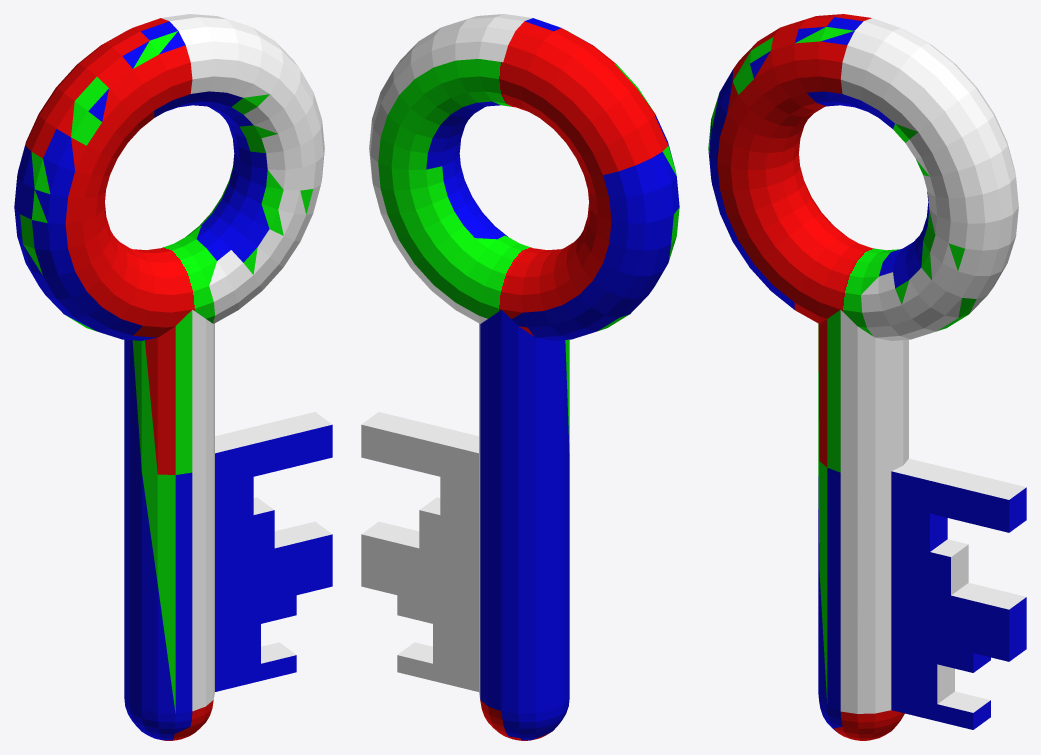
File: key.glb
The picture shows the model from 3 angles, left to right: view 1: azimuth 30°, elevation 25°; view 2: azimuth 150°, elevation 25°; view 3: azimuth 330°, elevation 25°; orthographic projection.
Parts seen in each view (by area): view 1: Key; view 2: Key; view 3: Key.
Boxes of the visible parts, bbox=[...] form: Key: bbox=[14, 14, 332, 740]; Key: bbox=[361, 14, 679, 740]; Key: bbox=[708, 14, 1026, 740].
Size of the model in its own units: 2.76 by 6.22 by 0.72.
Materials: 1 (1 with a texture image).
